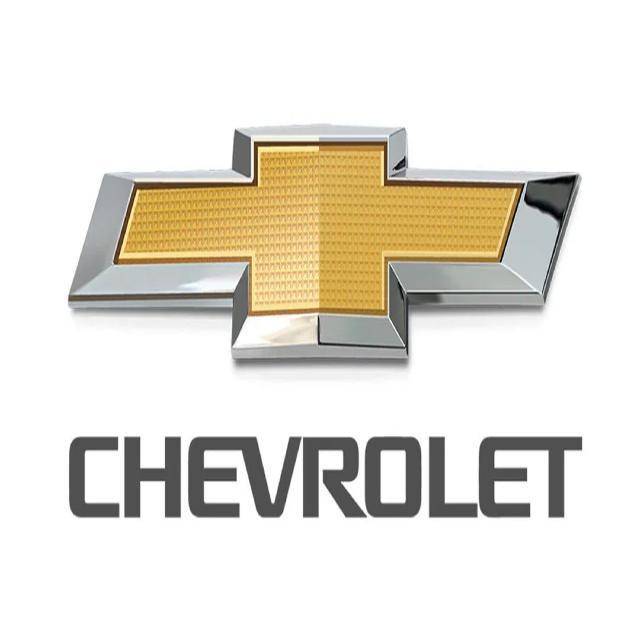chevrolet: (66, 102, 586, 361)
